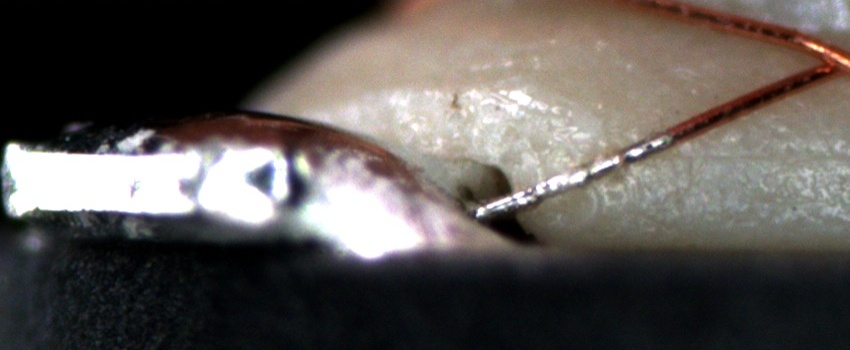CL: (795, 32, 850, 87)
DL: (665, 123, 850, 187)
TS: (473, 132, 671, 219)
